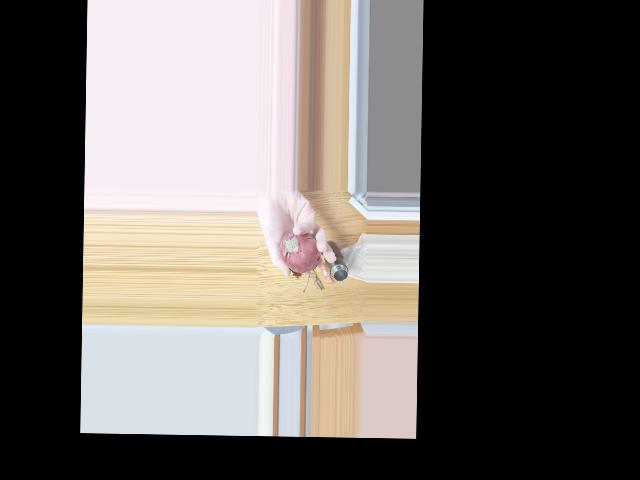onion: (278, 226, 320, 273)
